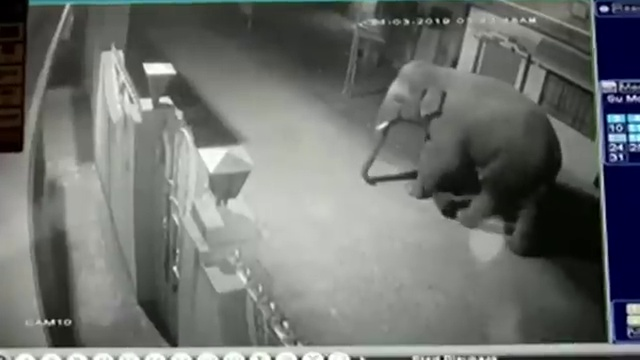Elephant: (360, 61, 562, 258)
